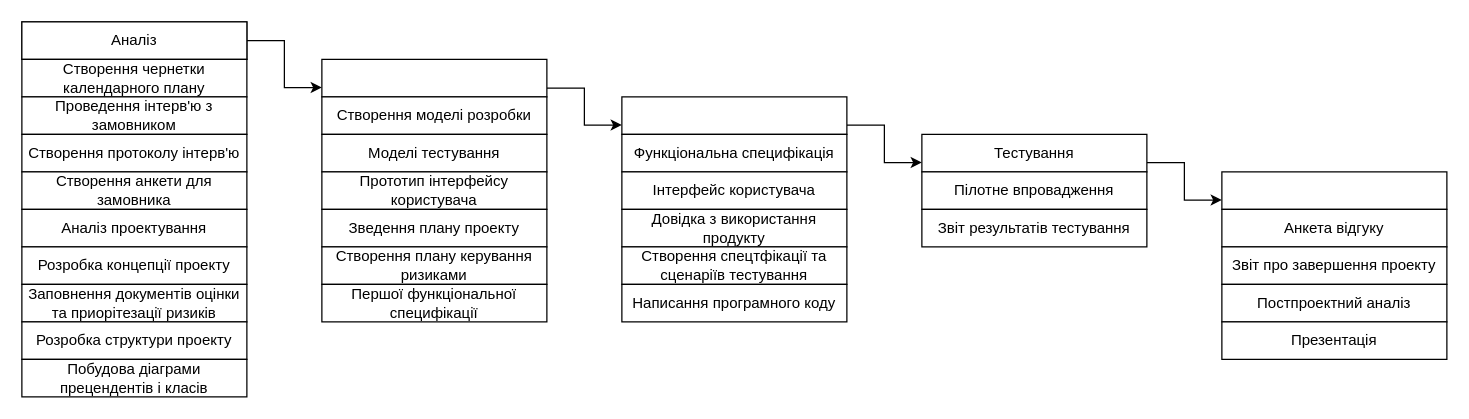
The diagram is 1469 pixels wide and 419 high, and some of its shapes have lost their labels. The shapes that lost their labels are listed below. From the top down, each one's centre as x and y in pixels, then its label:
pixel 434 77: Планування
pixel 734 115: Розробка
pixel 1334 190: Розгортання
